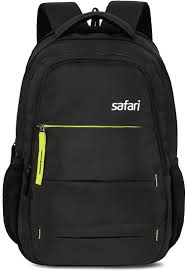backpack: (2, 0, 185, 266)
